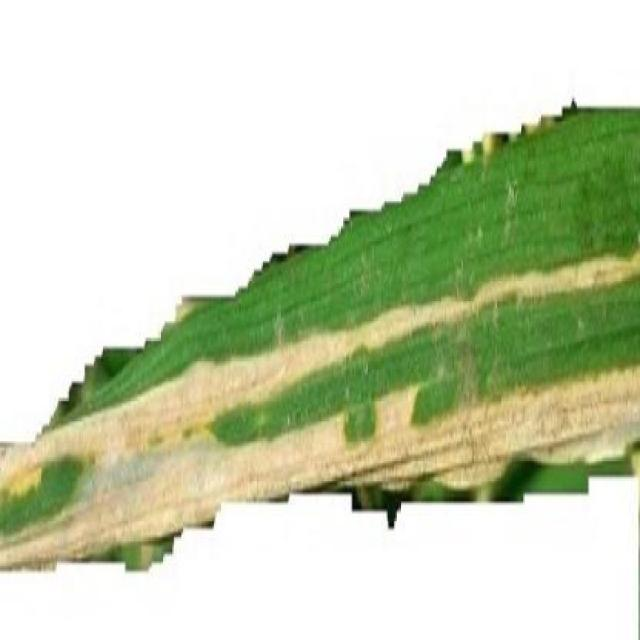Brown_Spot: (0, 98, 640, 573)
